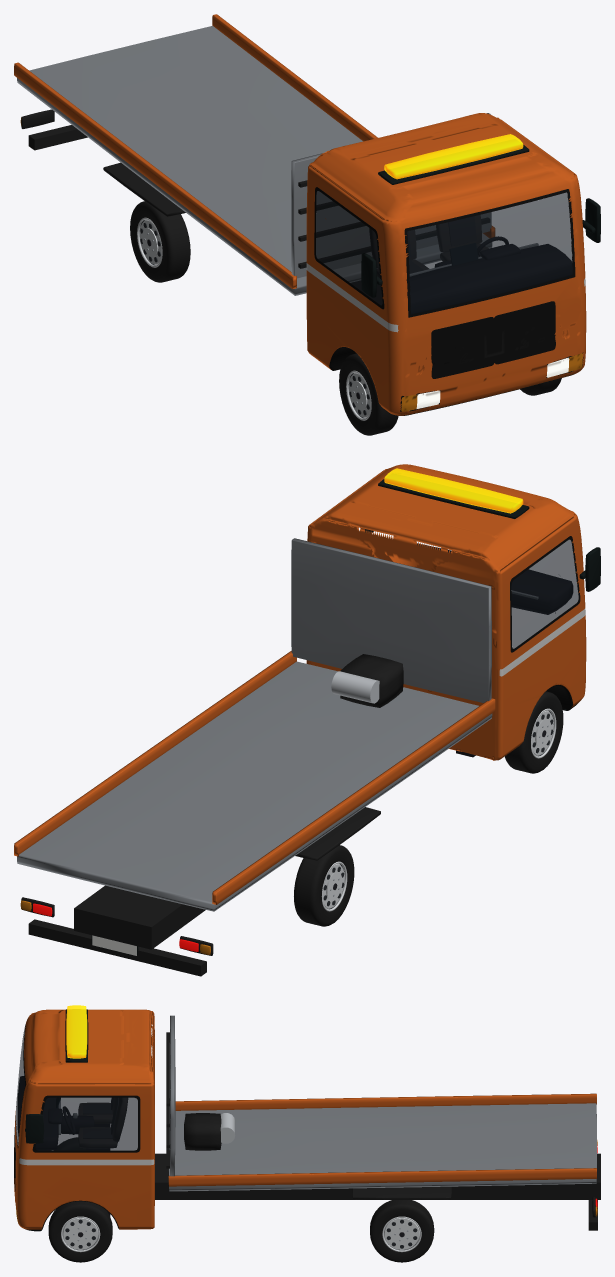
Rendered from car_tow.glb.
3 views of the same model, one above another, from view 1: azimuth 30°, elevation 25°; view 2: azimuth 150°, elevation 25°; view 3: azimuth 270°, elevation 25° (orthographic). The views are drawn at different scales.
Visible parts, largest first — view 1: body, glass, wheel_RR_mesh, wheel_FR_mesh, siren, headlight; view 2: body, glass, wheel_RR_mesh, wheel_FR_mesh, siren; view 3: body, glass, wheel_RL_mesh, wheel_FL_mesh, siren.
Boxes of the visible parts, box(x1,y1,x2,y2) form: body: box(14, 14, 600, 415); glass: box(316, 191, 572, 314); wheel_RR_mesh: box(130, 201, 190, 282); wheel_FR_mesh: box(339, 353, 398, 435); siren: box(384, 134, 523, 179); headlight: box(416, 357, 569, 408); body: box(14, 464, 600, 976); glass: box(511, 539, 578, 648); wheel_RR_mesh: box(294, 845, 354, 926); wheel_FR_mesh: box(504, 691, 563, 773); siren: box(384, 468, 523, 513); body: box(14, 1009, 600, 1231); glass: box(16, 1027, 137, 1150); wheel_RL_mesh: box(370, 1200, 434, 1262); wheel_FL_mesh: box(48, 1201, 112, 1262); siren: box(66, 1005, 87, 1058).
Size of the model in its own units: 2.67 by 2.89 by 7.67.
